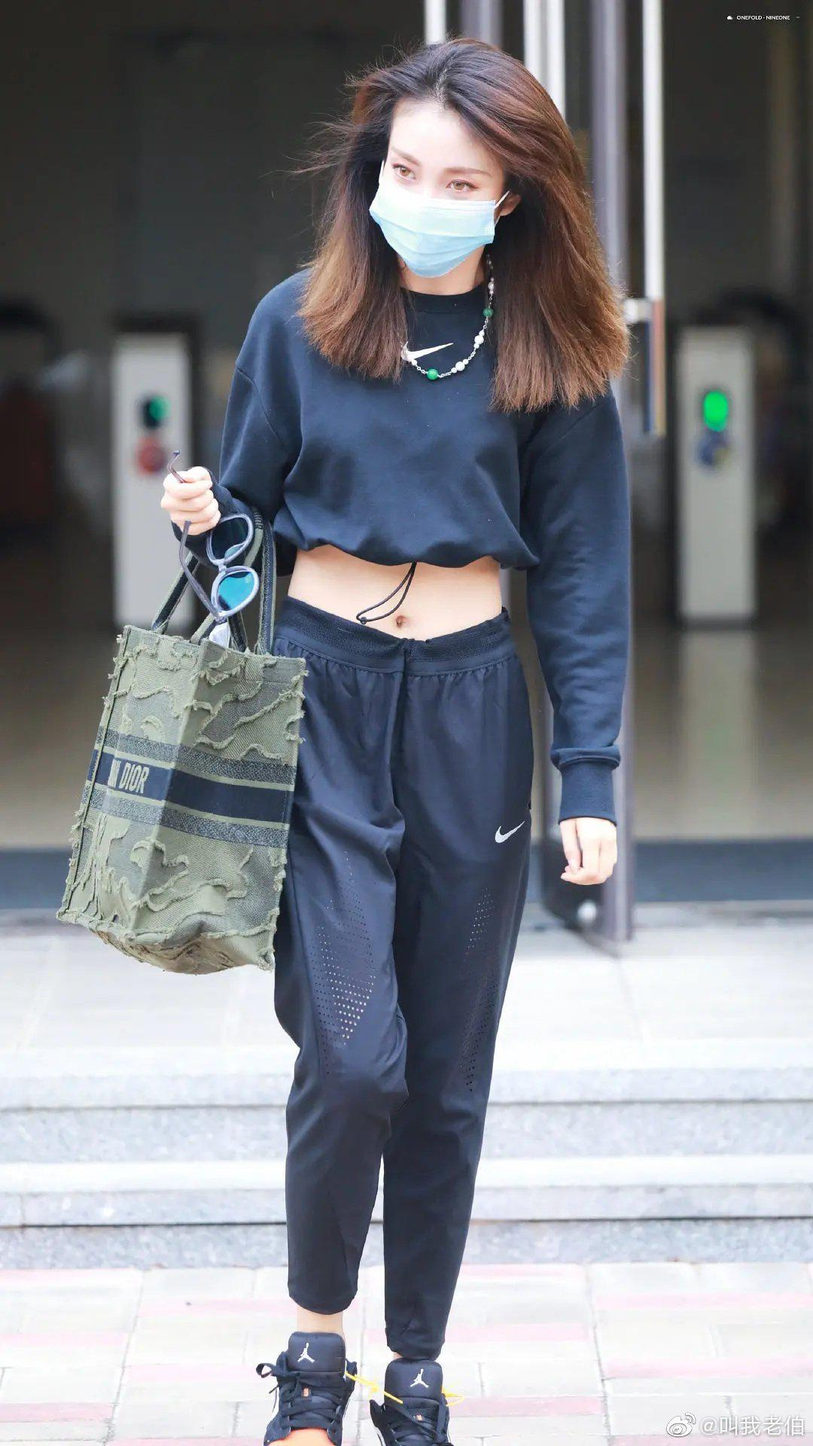OK: (375, 127, 498, 279)
